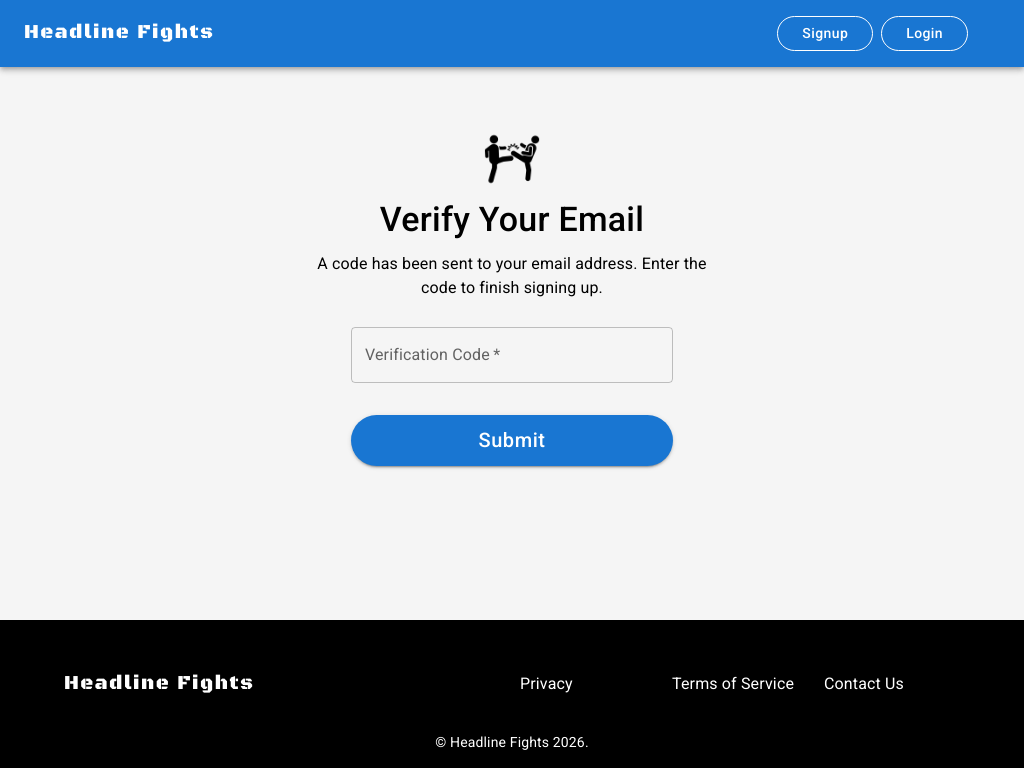
Verify page › shows wrong-code error when submitted_in_time is true but email_verified is false
In the field labelled "Verification Code *": (512, 356) left=351, top=328, right=673, bottom=384, type "000000"
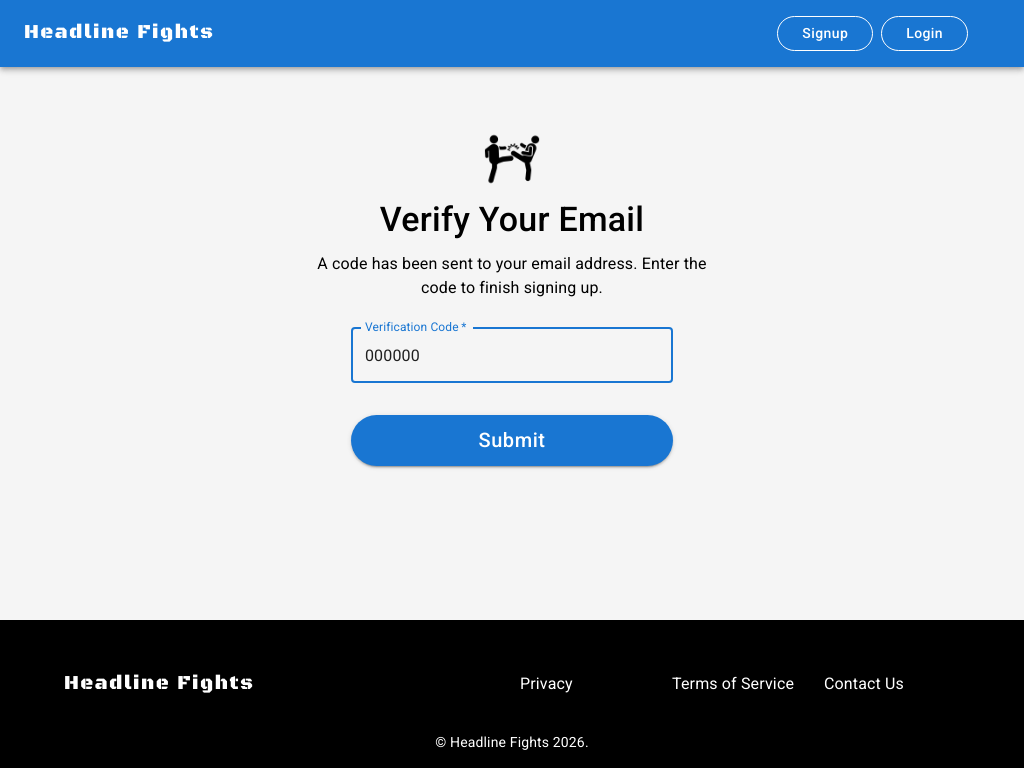
Submit the form "Verification Code * Submit", box left=351, top=312, right=673, bottom=482
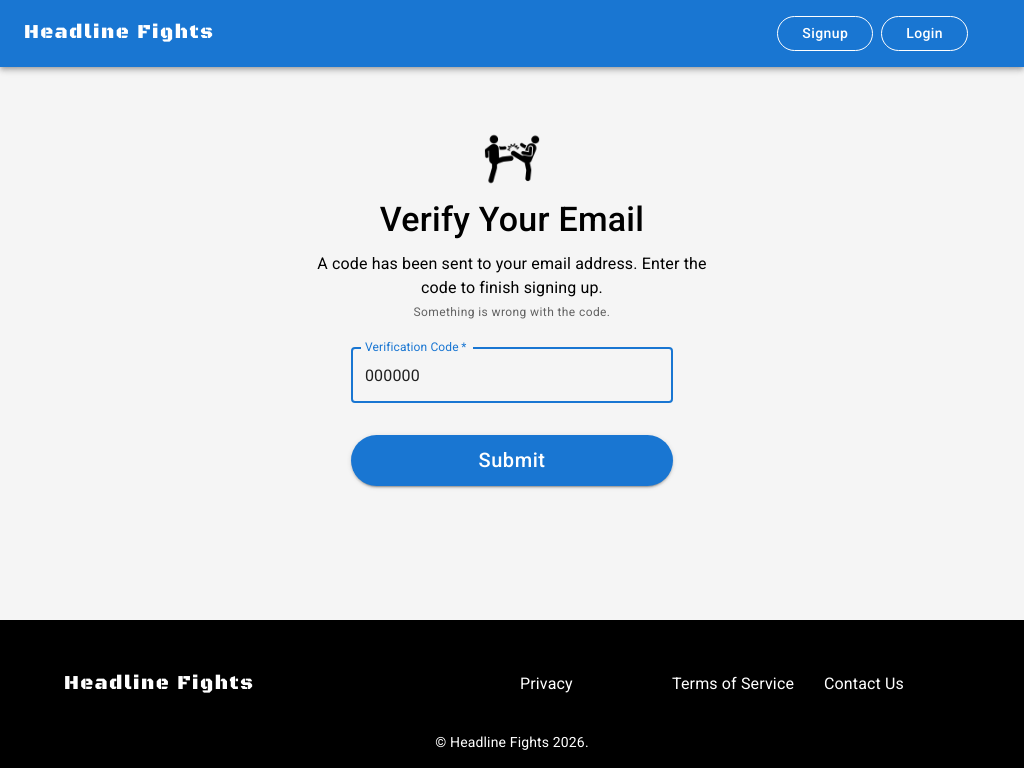
expect the text "Something is wrong with the code." is shown: met, box left=414, top=304, right=610, bottom=323
